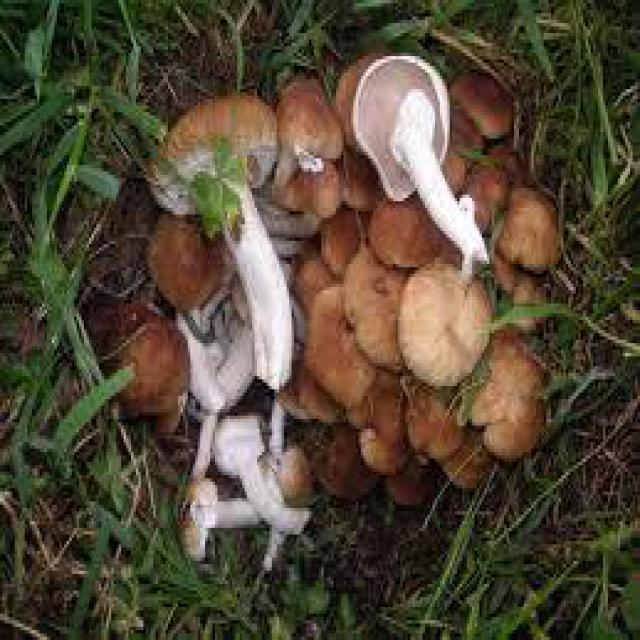Agrocybe aegerita: (138, 56, 560, 567)
